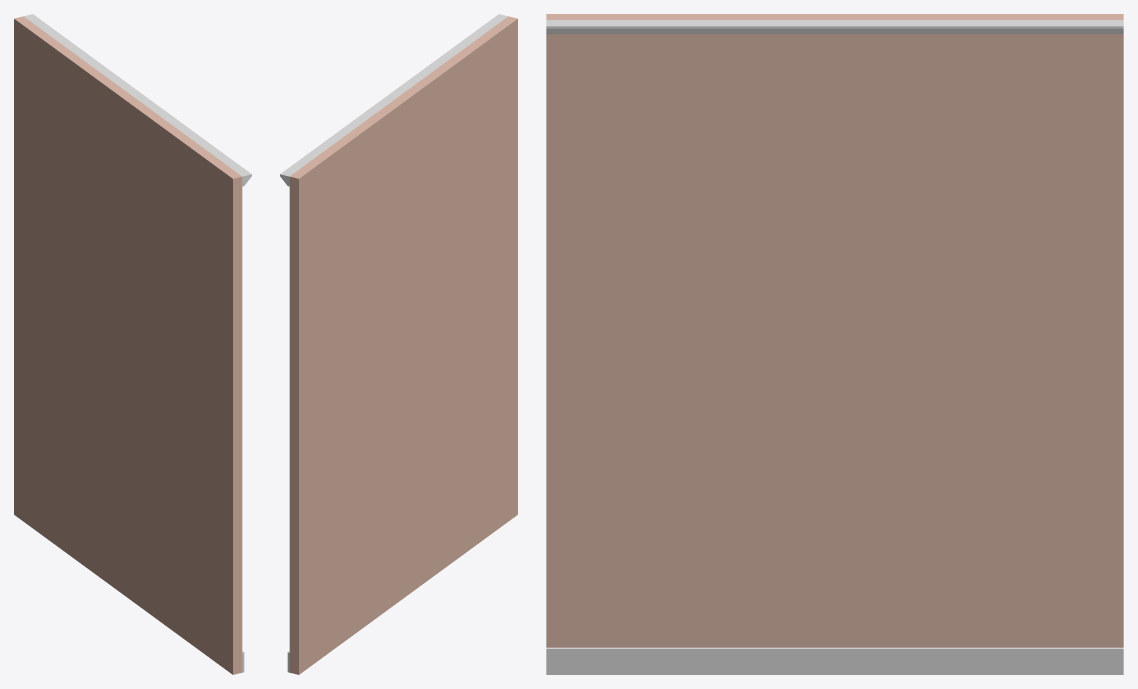
Rendered from simplewall.glb.
3 views of the same model, side by side, from view 1: azimuth 30°, elevation 25°; view 2: azimuth 150°, elevation 25°; view 3: azimuth 270°, elevation 25° (orthographic). The views are drawn at different scales.
Visible parts, largest first — view 1: Simple Wall; view 2: Simple Wall; view 3: Simple Wall.
Boxes of the visible parts, x1,y1,x2,y2 form: Simple Wall: [14, 14, 251, 674]; Simple Wall: [280, 14, 517, 674]; Simple Wall: [546, 14, 1123, 674].
Size of the model in its own units: 0.1 by 2.5 by 2.
